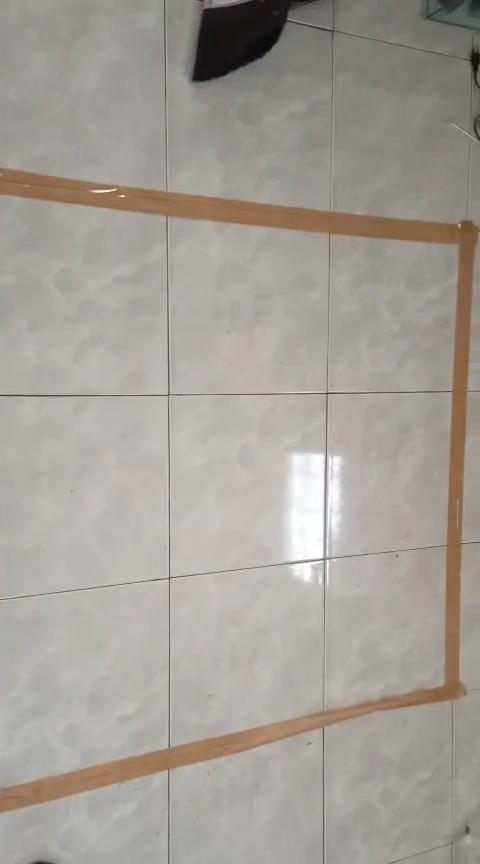floor marking: (0, 169, 477, 811)
